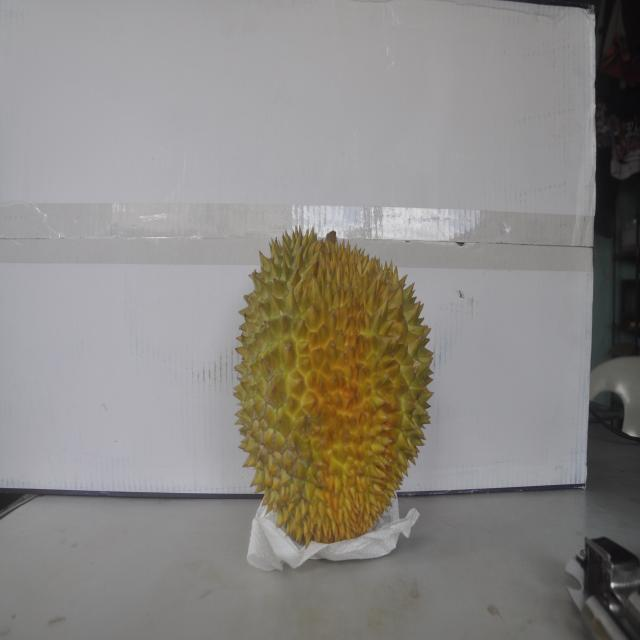mature: (232, 220, 431, 549)
